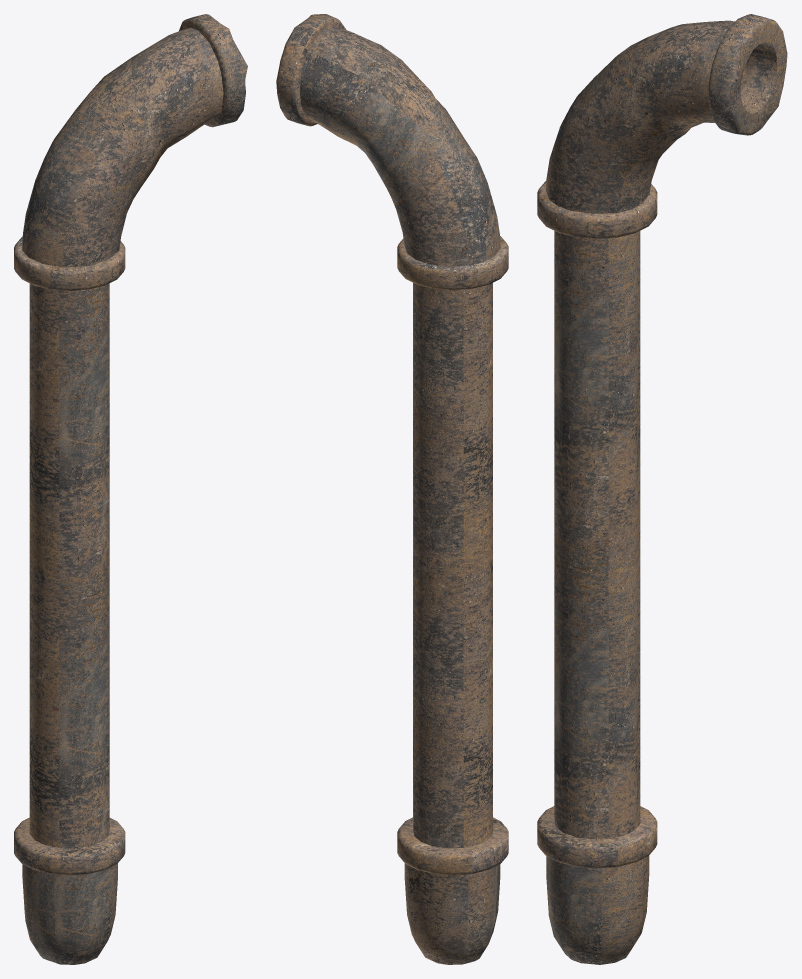
Rendered from RustyPipe.fbx.
The picture shows the model from 3 angles, left to right: view 1: azimuth 30°, elevation 25°; view 2: azimuth 150°, elevation 25°; view 3: azimuth 330°, elevation 25°; orthographic projection. The views are drawn at different scales.
Visible parts, largest first — view 1: Cylinder_3; view 2: Cylinder_3; view 3: Cylinder_3.
Boxes of the visible parts, left/top/right/bottom form: Cylinder_3: left=14, top=14, right=247, bottom=964; Cylinder_3: left=276, top=14, right=508, bottom=964; Cylinder_3: left=537, top=14, right=787, bottom=964.
Size of the model in its own units: 29.19 by 124 by 13.79.
1 material, 1 textured.
